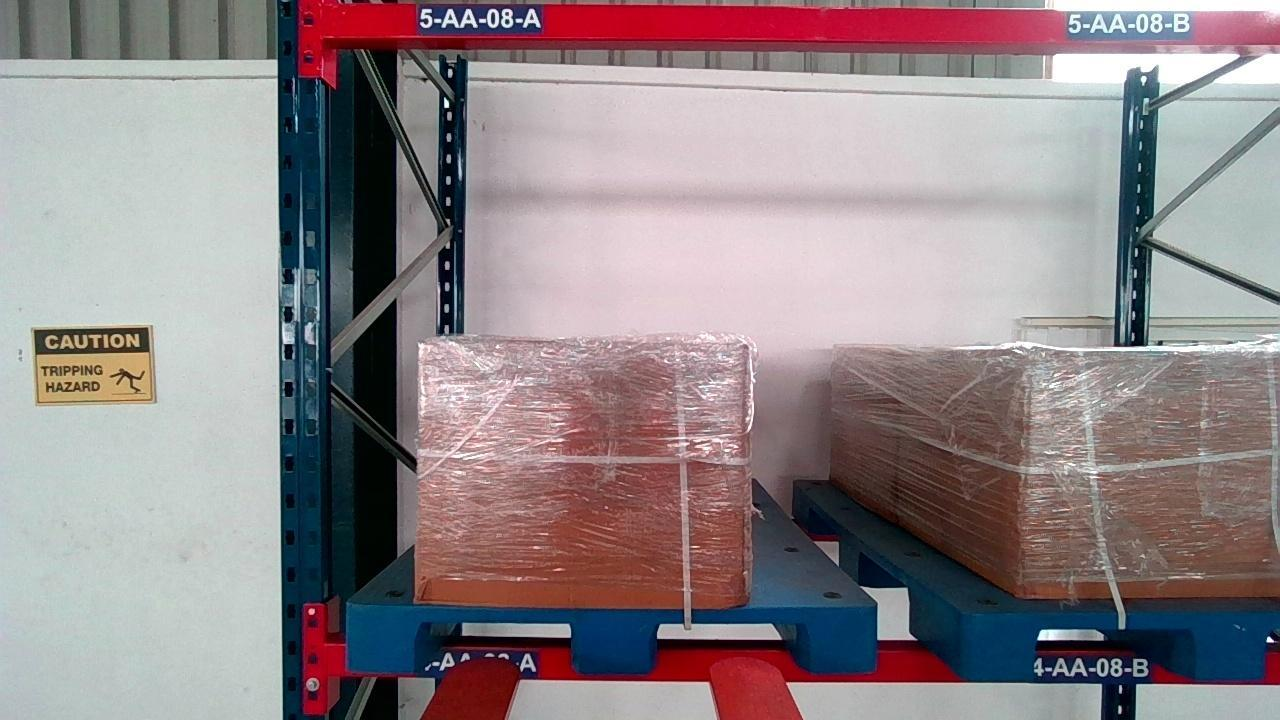h_rack: (332, 642, 1275, 683), (324, 1, 1275, 40)
small_pallet: (347, 601, 874, 669), (973, 615, 1279, 678)
